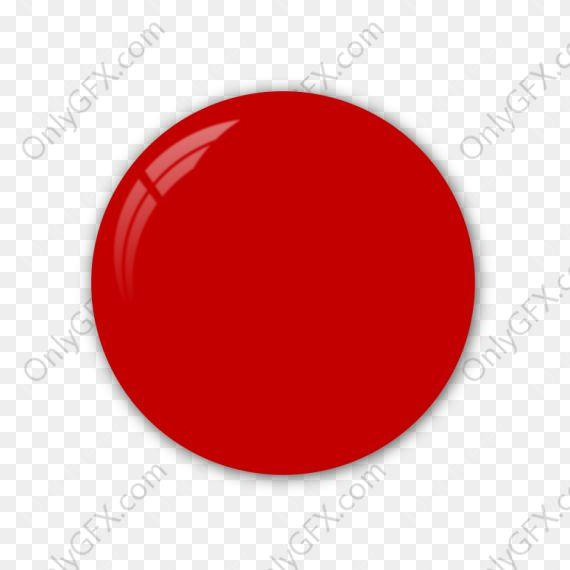red_circle: (79, 71, 492, 492)
